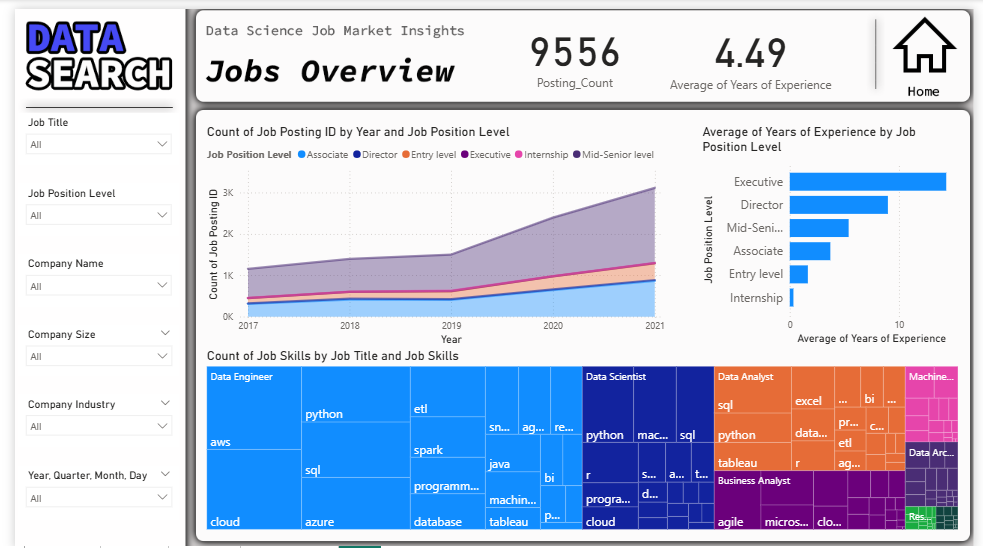

The dashboard page shown, as its layout file describes it:
{"tool":"powerbi","page":{"name":"jobs","canvas":[1280,720],"ordinal":1},"visuals":[{"type":"barChart","fields":{"Category":["job_postings.Job Position Level"],"Y":["Avg(job_postings.Years of Experience)"]},"box":[912.3,154.7,352.5,298.3],"z":0},{"type":"slicer","fields":{"Values":["job_postings.Job Title"]},"box":[4.5,138.7,215,70],"z":1000},{"type":"stackedAreaChart","fields":{"Category":["job_postings.Job Posting Date.Variation.Date Hierarchy.Year","job_postings.Job Posting Date.Variation.Date Hierarchy.Month"],"Series":["job_postings.Job Position Level"],"Y":["CountNonNull(job_postings.Job Posting ID)"]},"box":[251.4,154.5,621.2,299.1],"z":2000},{"type":"treemap","fields":{"Group":["job_postings.Job Title"],"Values":["CountNonNull(job_skills.Job Skills)"],"Details":["job_skills.Job Skills"]},"box":[252,453,1012.8,247.2],"z":3000},{"type":"slicer","fields":{"Values":["job_postings.Company Name"]},"box":[4.5,327.4,215,70],"z":4000},{"type":"slicer","fields":{"Values":["job_postings.Job Position Level"]},"box":[4.5,233,215,70],"z":5000},{"type":"slicer","fields":{"Values":["job_postings.Company Size"]},"box":[4.8,421.8,215.3,68.6],"z":6000},{"type":"slicer","fields":{"Values":["job_postings.Company Industry"]},"box":[4.8,514.7,215.3,70.2],"z":7000},{"type":"slicer","fields":{"Values":["job_postings.Job Posting Date.Variation.Date Hierarchy.Year","job_postings.Job Posting Date.Variation.Date Hierarchy.Quarter","job_postings.Job Posting Date.Variation.Date Hierarchy.Month","job_postings.Job Posting Date.Variation.Date Hierarchy.Day"]},"box":[4.8,609.3,215.3,71.8],"z":8000},{"type":"card","fields":{"Values":["_measure.Posting_Count"]},"box":[639.6,0,215.3,121.2],"z":9000},{"type":"card","fields":{"Values":["Avg(job_postings.Years of Experience)"]},"box":[854.9,4.8,256.8,116.4],"z":10000},{"type":"image","box":[1165.1,0,98.6,97],"z":11000}]}

Visuals, with their boxes on the page's 1280x720 design canvas (x1, y1, x2, y2). These are canvas units, not pixel positions in the 983x548 screenshot, which may show the page scaled, cropped or inside an application window:
barChart - job_postings.Job Position Level x Avg(job_postings.Years of Experience): bbox(912, 155, 1265, 453)
slicer - job_postings.Job Title: bbox(4, 139, 220, 209)
stackedAreaChart - job_postings.Job Posting Date.Variation.Date Hierarchy.Year x job_postings.Job Posting Date.Variation.Date Hierarchy.Month: bbox(251, 154, 873, 454)
treemap - job_postings.Job Title x CountNonNull(job_skills.Job Skills): bbox(252, 453, 1265, 700)
slicer - job_postings.Company Name: bbox(4, 327, 220, 397)
slicer - job_postings.Job Position Level: bbox(4, 233, 220, 303)
slicer - job_postings.Company Size: bbox(5, 422, 220, 490)
slicer - job_postings.Company Industry: bbox(5, 515, 220, 585)
slicer - job_postings.Job Posting Date.Variation.Date Hierarchy.Year x job_postings.Job Posting Date.Variation.Date Hierarchy.Quarter: bbox(5, 609, 220, 681)
card - _measure.Posting_Count: bbox(640, 0, 855, 121)
card - Avg(job_postings.Years of Experience): bbox(855, 5, 1112, 121)
image: bbox(1165, 0, 1264, 97)
